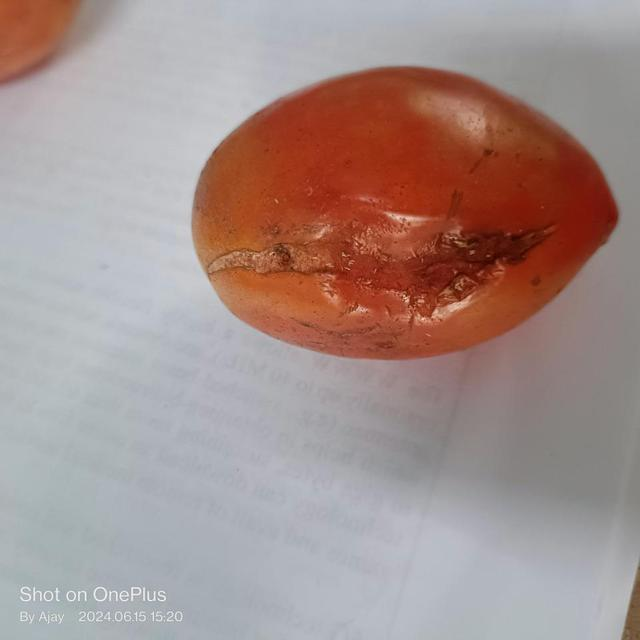Cracking Fruit: (109, 128, 446, 316)
